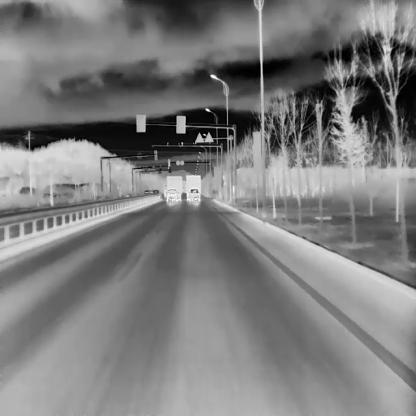car: (165, 188, 178, 202), (187, 188, 200, 202), (150, 189, 159, 194), (143, 189, 150, 194)
truck: (166, 175, 181, 200), (186, 175, 200, 200)
